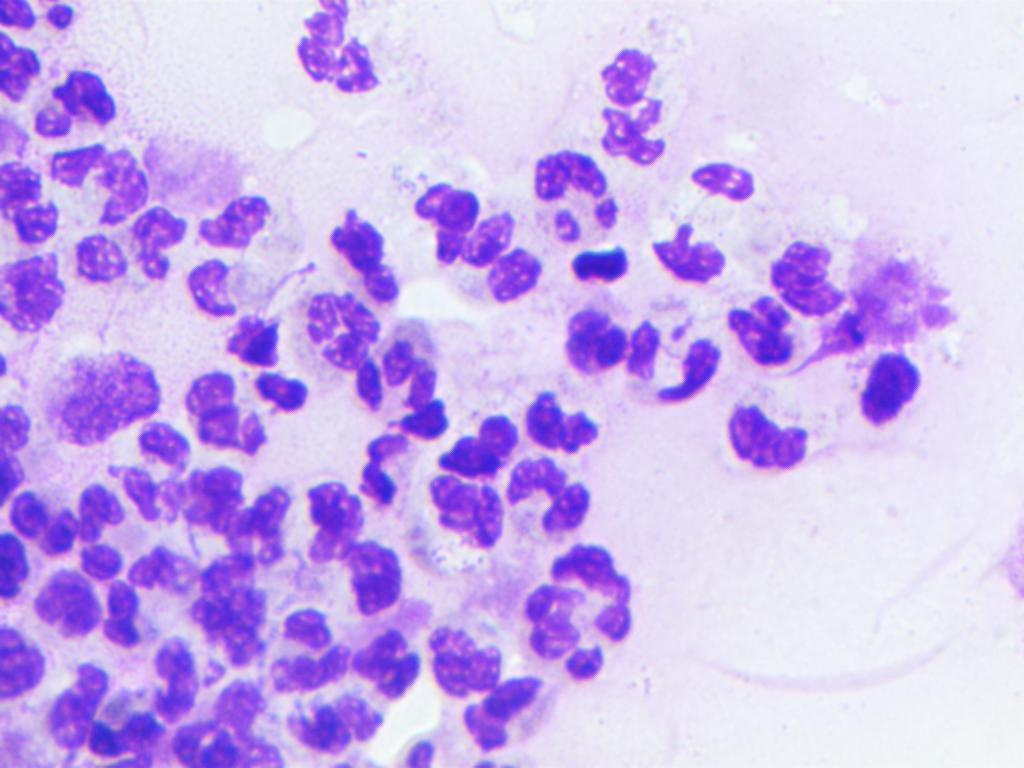neutrophil: (299, 276, 466, 448), (31, 136, 198, 288), (501, 532, 656, 682), (547, 304, 728, 422), (387, 176, 556, 298), (585, 32, 704, 172), (297, 482, 418, 608), (491, 444, 614, 544), (7, 482, 142, 572), (179, 556, 282, 666), (181, 356, 266, 466), (188, 469, 286, 563), (533, 124, 624, 218), (297, 2, 374, 96), (215, 288, 296, 376), (81, 538, 141, 651), (272, 607, 358, 682), (721, 411, 816, 472), (0, 160, 69, 243), (45, 56, 124, 128), (287, 698, 387, 754), (438, 411, 521, 478), (859, 346, 922, 434), (726, 294, 794, 374), (351, 629, 422, 701), (82, 710, 167, 768), (527, 394, 601, 456), (172, 714, 256, 768), (197, 196, 280, 243), (0, 27, 46, 106), (192, 254, 237, 323), (257, 363, 310, 416), (567, 251, 634, 289)
